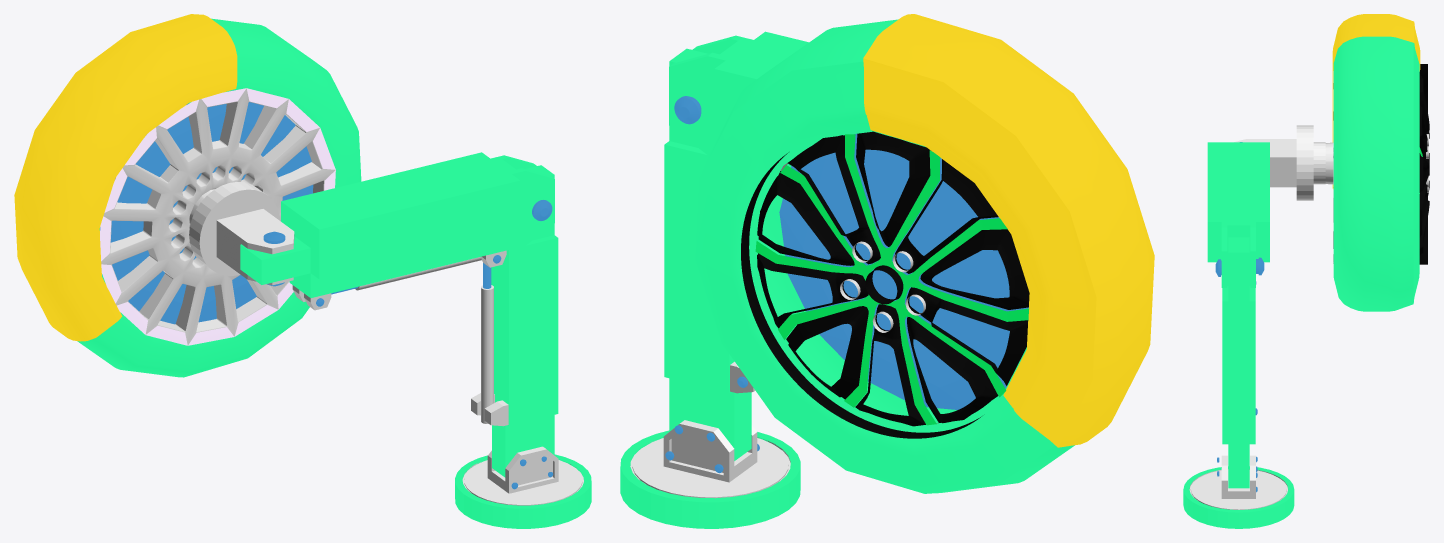
The picture shows the model from 3 angles, left to right: view 1: azimuth 30°, elevation 25°; view 2: azimuth 150°, elevation 25°; view 3: azimuth 270°, elevation 25°; orthographic projection. The views are drawn at different scales.
Visible parts, largest first — view 1: ban_2.021, ban_2.023, Plane.037, Cube.006, ban_2.022, Plane.036, Circle.096, Circle.097, Plane.041, Cylinder.023, Plane.038; view 2: ban_2.021, Hyper_NURBS, ban_2.022, Cube.006, Hyper_NURBS.001, Plane.036, Plane.037, Circle.096, Circle.107; view 3: ban_2.021, Plane.037, Cube.006, Plane.036, Circle.096, Hyper_NURBS, Circle.097, Plane.041, ban_2.023.
Boxes of the visible parts, x1,y1,x2,y2 form: ban_2.021: [14, 14, 361, 377]; ban_2.023: [100, 88, 335, 345]; Plane.037: [240, 152, 554, 297]; Cube.006: [491, 165, 558, 477]; ban_2.022: [100, 90, 313, 324]; Plane.036: [462, 446, 583, 505]; Circle.096: [455, 454, 591, 528]; Circle.097: [189, 182, 279, 275]; Plane.041: [216, 209, 294, 285]; Cylinder.023: [481, 285, 493, 423]; Plane.038: [471, 393, 508, 426]; ban_2.021: [695, 14, 1154, 493]; Hyper_NURBS: [741, 131, 1029, 438]; ban_2.022: [779, 133, 1028, 409]; Cube.006: [664, 48, 751, 460]; Hyper_NURBS.001: [755, 134, 1028, 425]; Plane.036: [630, 420, 790, 498]; Plane.037: [669, 31, 808, 155]; Circle.096: [620, 430, 800, 528]; Circle.107: [674, 96, 701, 124]; ban_2.021: [1332, 14, 1420, 311]; Plane.037: [1207, 142, 1269, 287]; Cube.006: [1222, 237, 1255, 488]; Plane.036: [1189, 455, 1287, 509]; Circle.096: [1183, 466, 1294, 528]; Hyper_NURBS: [1419, 64, 1429, 264]; Circle.097: [1296, 125, 1325, 200]; Plane.041: [1234, 139, 1296, 187]; ban_2.023: [1325, 71, 1333, 263].
Size of the model in its own units: 28.02 by 26.89 by 15.75.
